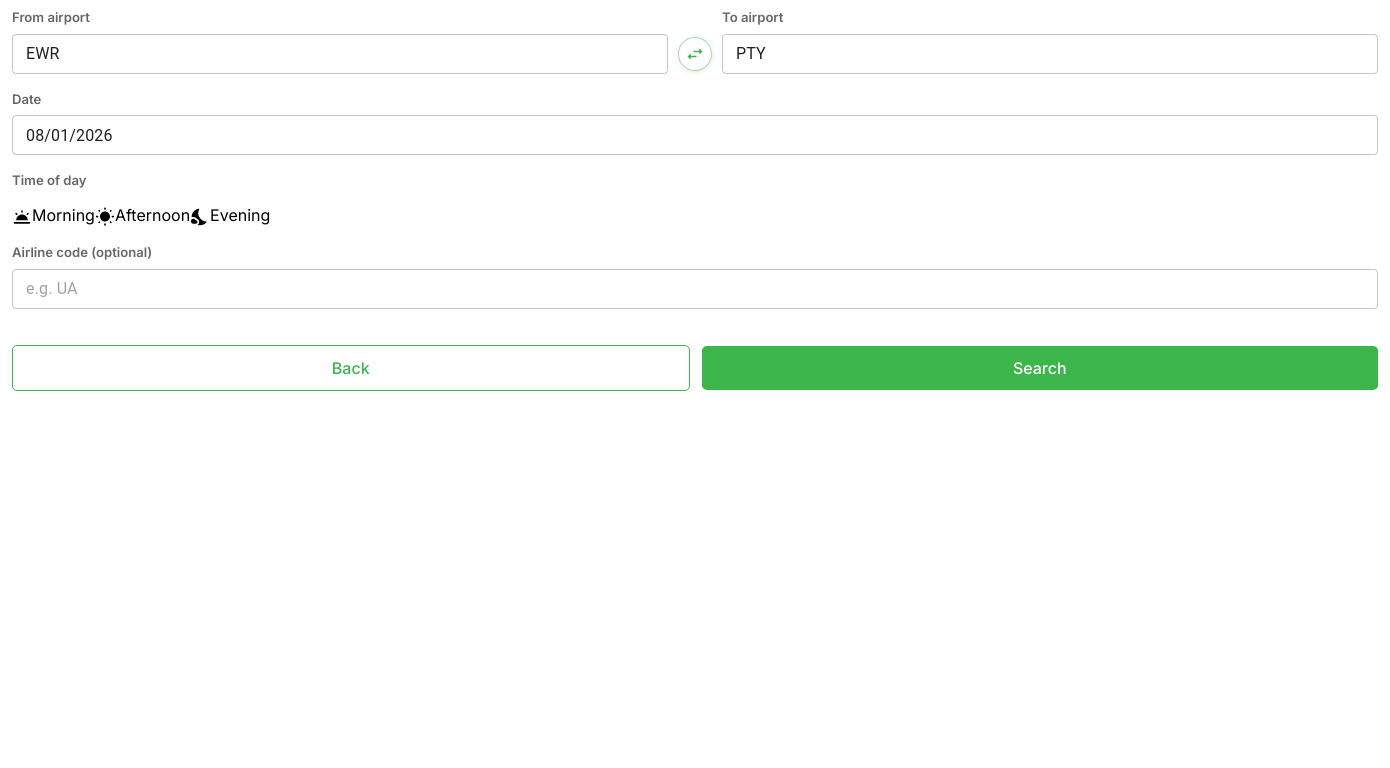
Test case: FlightDeparturesSearch › hides results after swapping the From/To airports
Click the button "Search". click: {"x": 1040, "y": 368}
box: left=702, top=346, right=1378, bottom=390
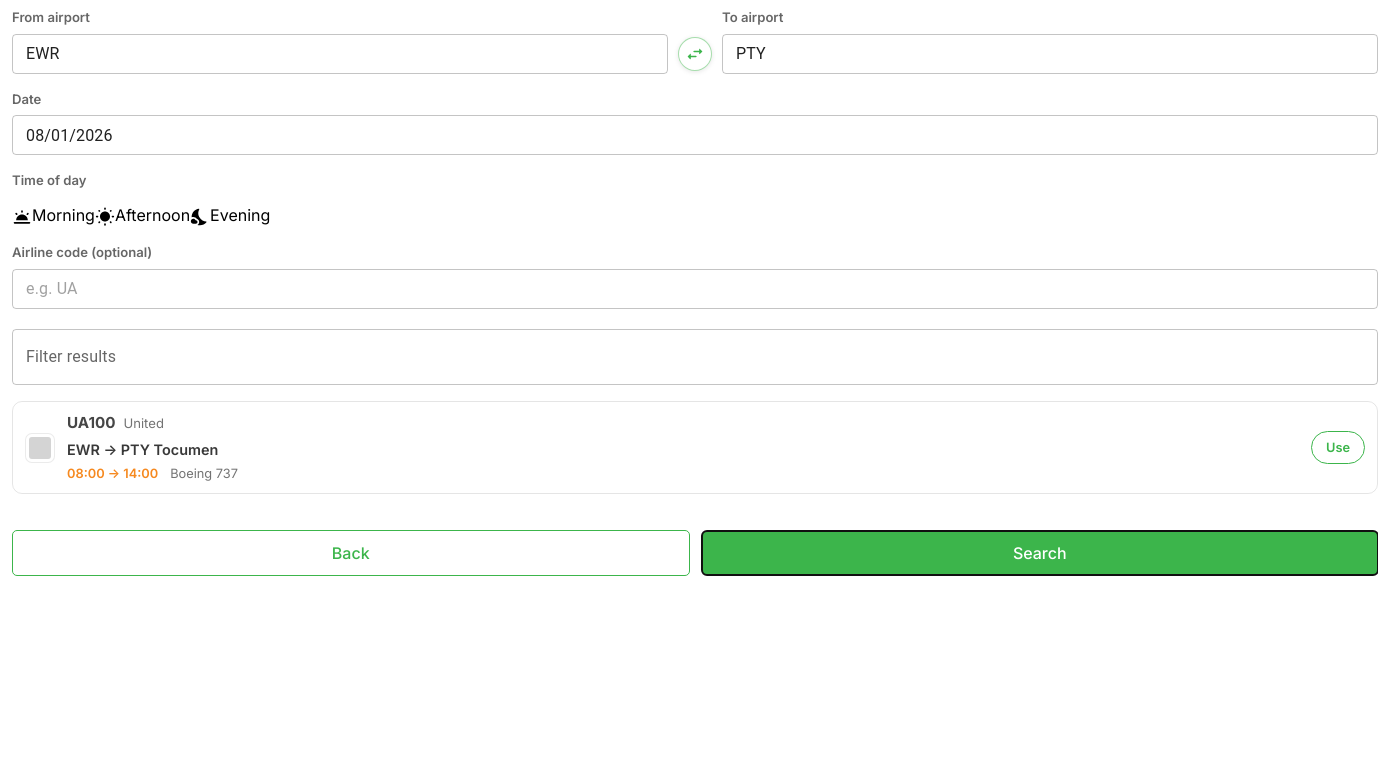
Now the text "UA100" is shown, box left=67, top=412, right=115, bottom=435
Click the button named "Swap From and To airports". click: {"x": 695, "y": 54}
box: left=678, top=37, right=712, bottom=71
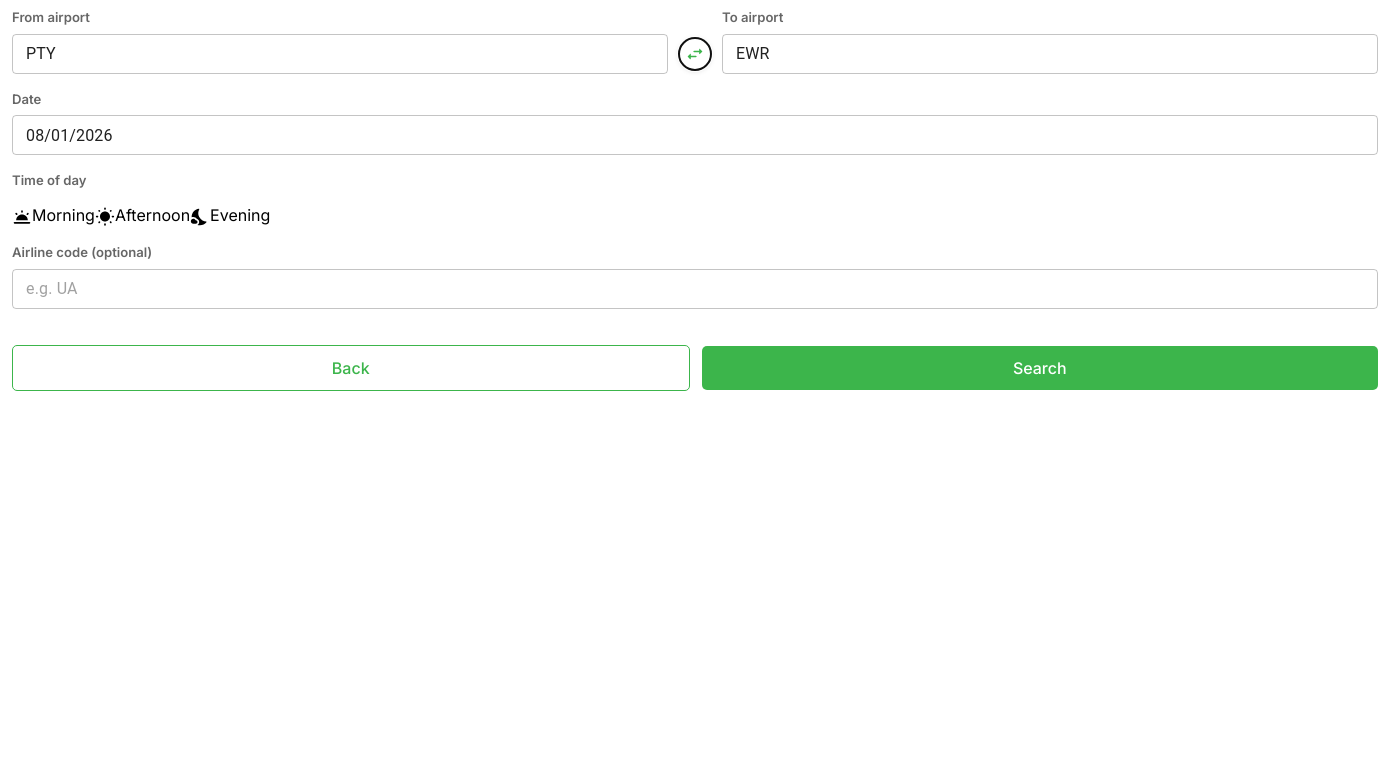
Now the button "UA100" is gone
